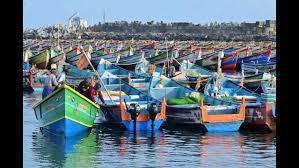fishing boat: (150, 69, 248, 132), (31, 68, 100, 140), (203, 68, 277, 132), (99, 70, 167, 133)
